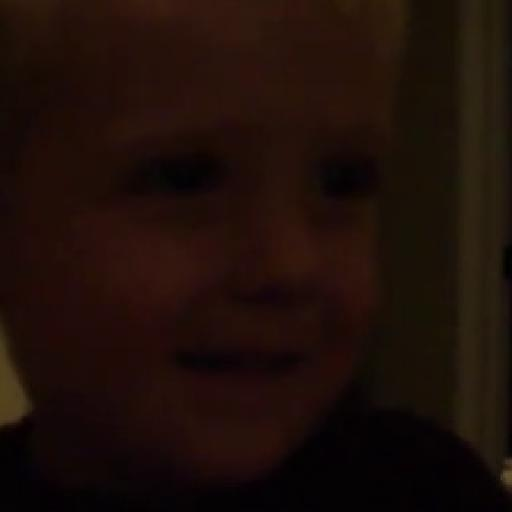Autism: (10, 26, 477, 463), (29, 33, 428, 501)
